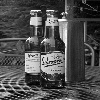beer: (39, 11, 67, 89)
